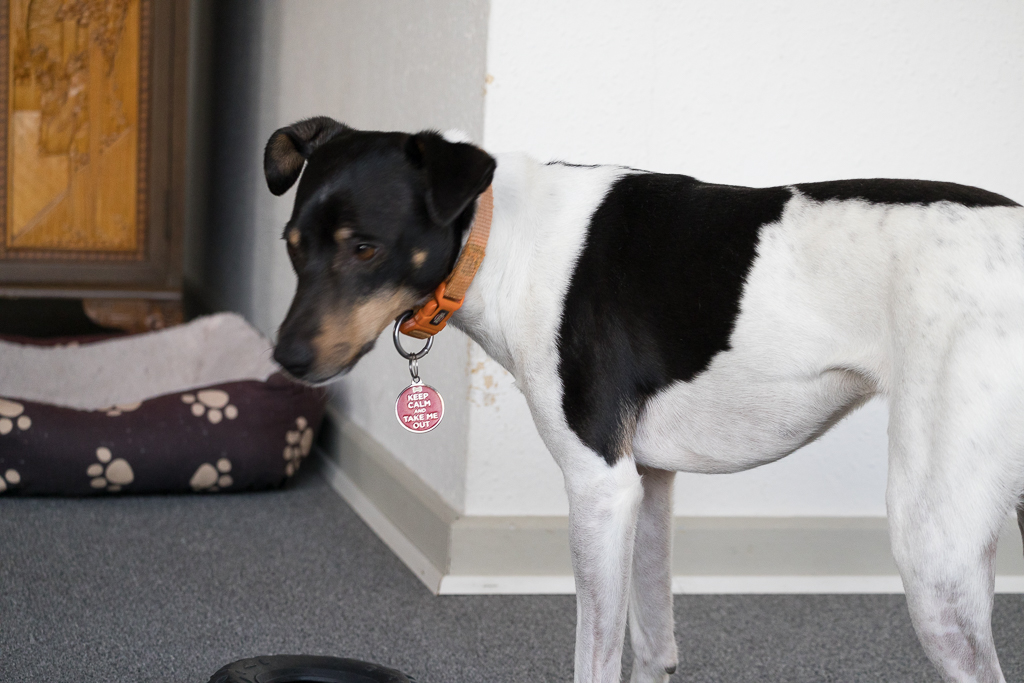Dog: (250, 99, 1024, 683)
